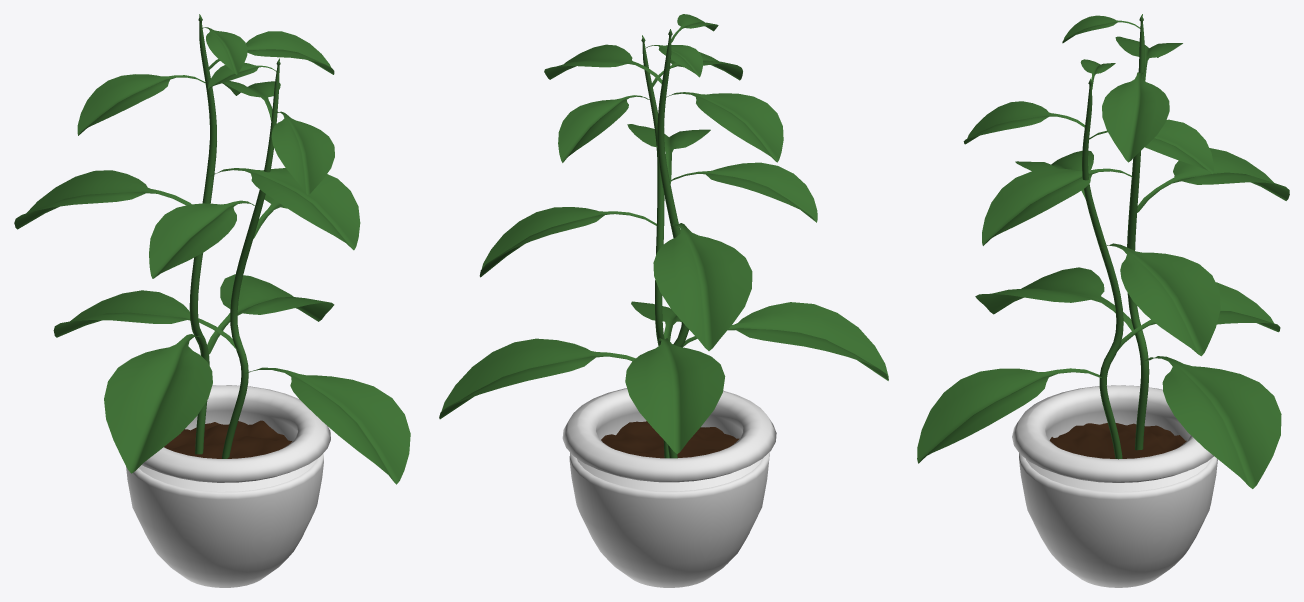
Rendered from tall potted plant simple.fbx.
The picture shows the model from 3 angles, left to right: view 1: azimuth 30°, elevation 25°; view 2: azimuth 150°, elevation 25°; view 3: azimuth 270°, elevation 25°; orthographic projection.
Visible parts, largest first — view 1: Potted Plant; view 2: Potted Plant; view 3: Potted Plant.
Part boxes in pixels (x1=…): Potted Plant: x1=14, y1=14, x2=410, y2=587; Potted Plant: x1=439, y1=14, x2=888, y2=587; Potted Plant: x1=917, y1=14, x2=1289, y2=587.
Size of the model in its own units: 242 by 398 by 243.
